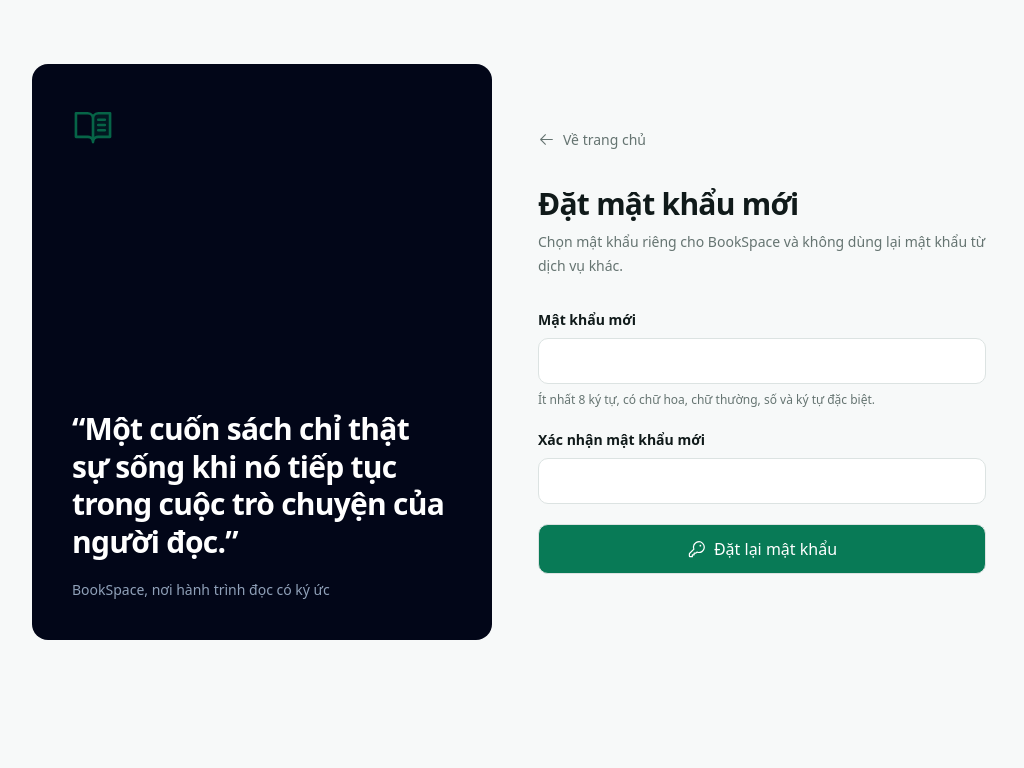
password recovery pages › confirms a strong password with the token and clears the old local session
Type "Reader456!" into the password field labelled "Mật khẩu mới" at (762, 361), box 538,338 -> 986,384
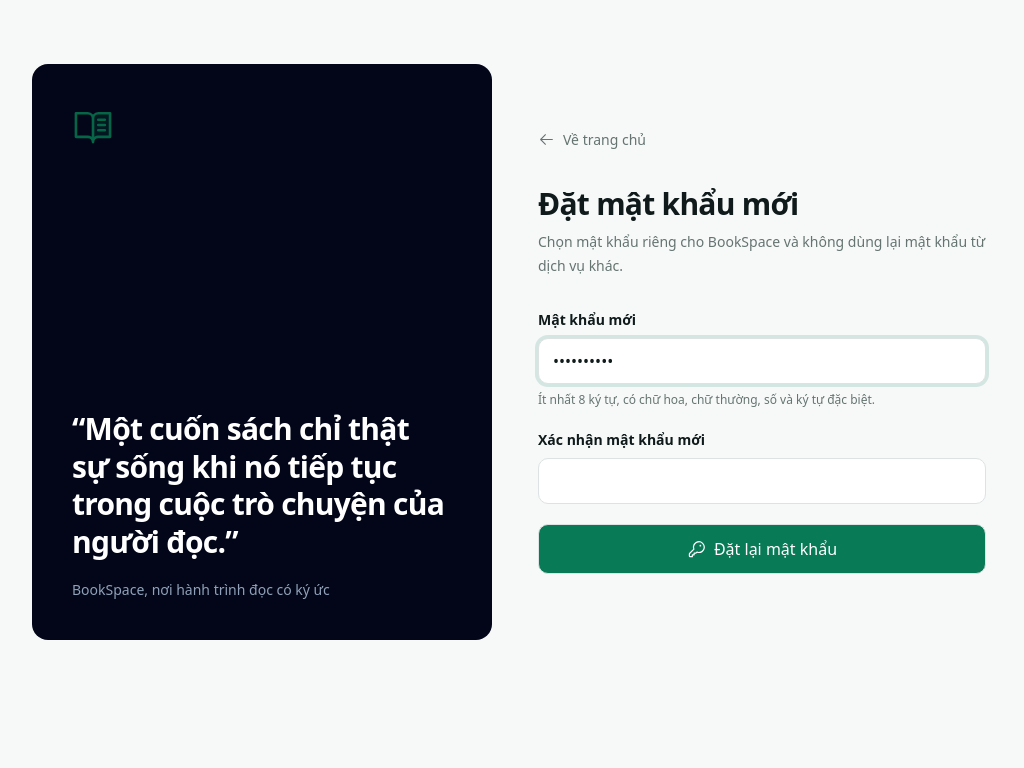
Type "Reader456!" into the password field labelled "Xác nhận mật khẩu mới" at (762, 481), box 538,458 -> 986,504
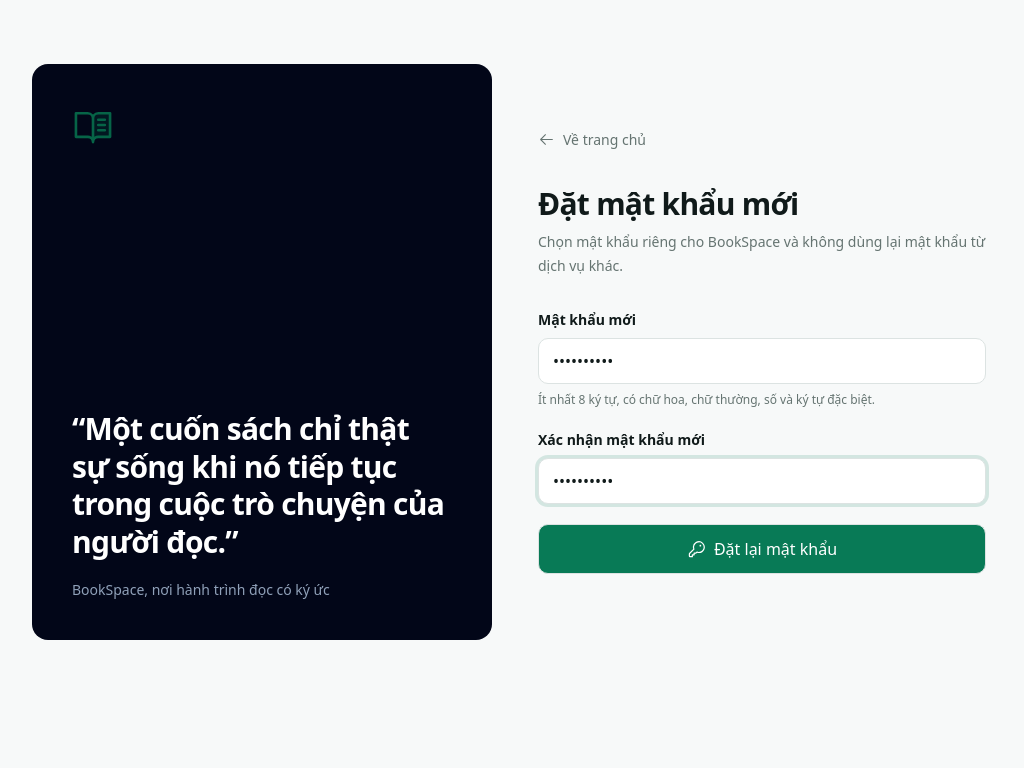
Click the button "Đặt lại mật khẩu" at (762, 549), box 538,524 -> 986,574
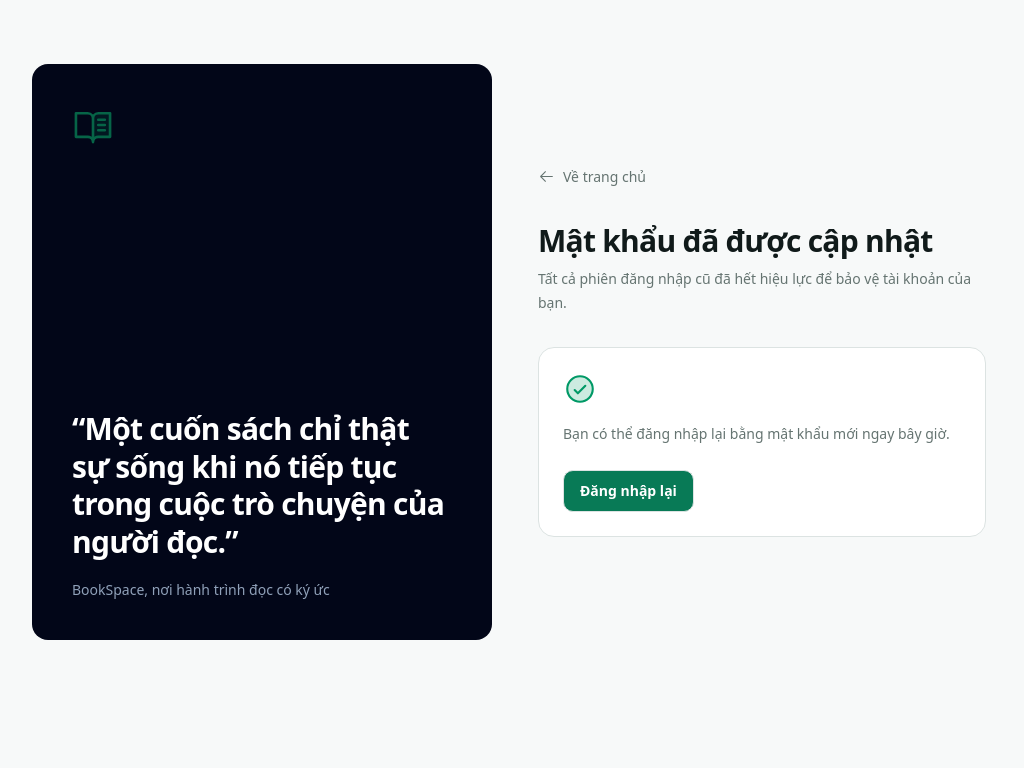
Expected: the heading "Mật khẩu đã được cập nhật" is shown, 538,223 -> 986,259
